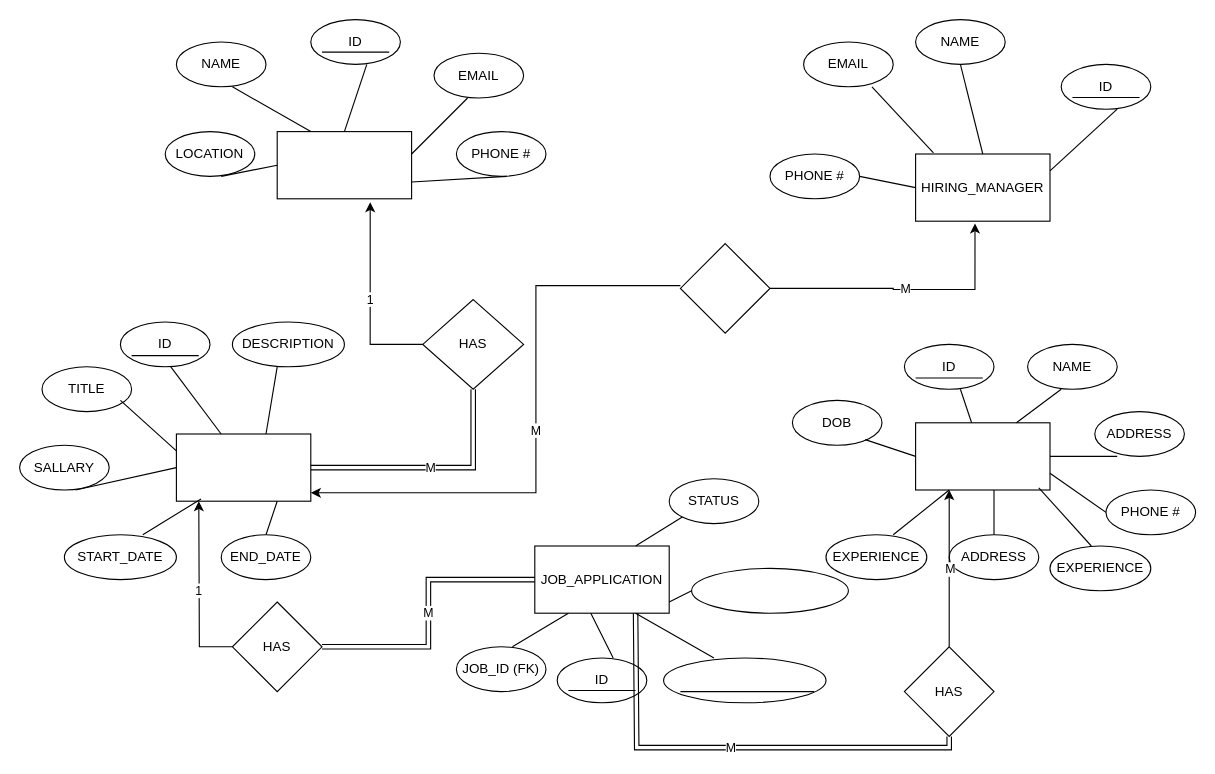
The diagram is 1215 pixels wide and 774 high, and some of its shapes have lost their labels. The centre of each missing label's shape, as x and y in pixels:
"APPLICANT" belongs at (x=982, y=456).
"APPLICANT_ID (FK)" belongs at (x=744, y=680).
"CLIENT_COMAPNY" belongs at (x=344, y=164).
"HANDLE" belongs at (x=724, y=287).
"JOB_VACANCY" belongs at (x=243, y=467).
"SUBMISSION_DATE" belongs at (x=769, y=590).
